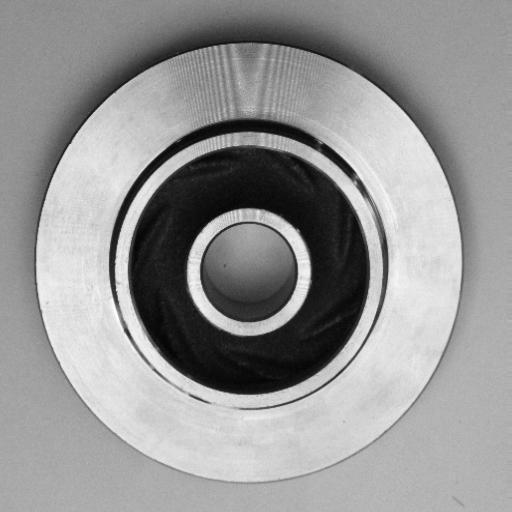polished_casting: (34, 34, 469, 487)
